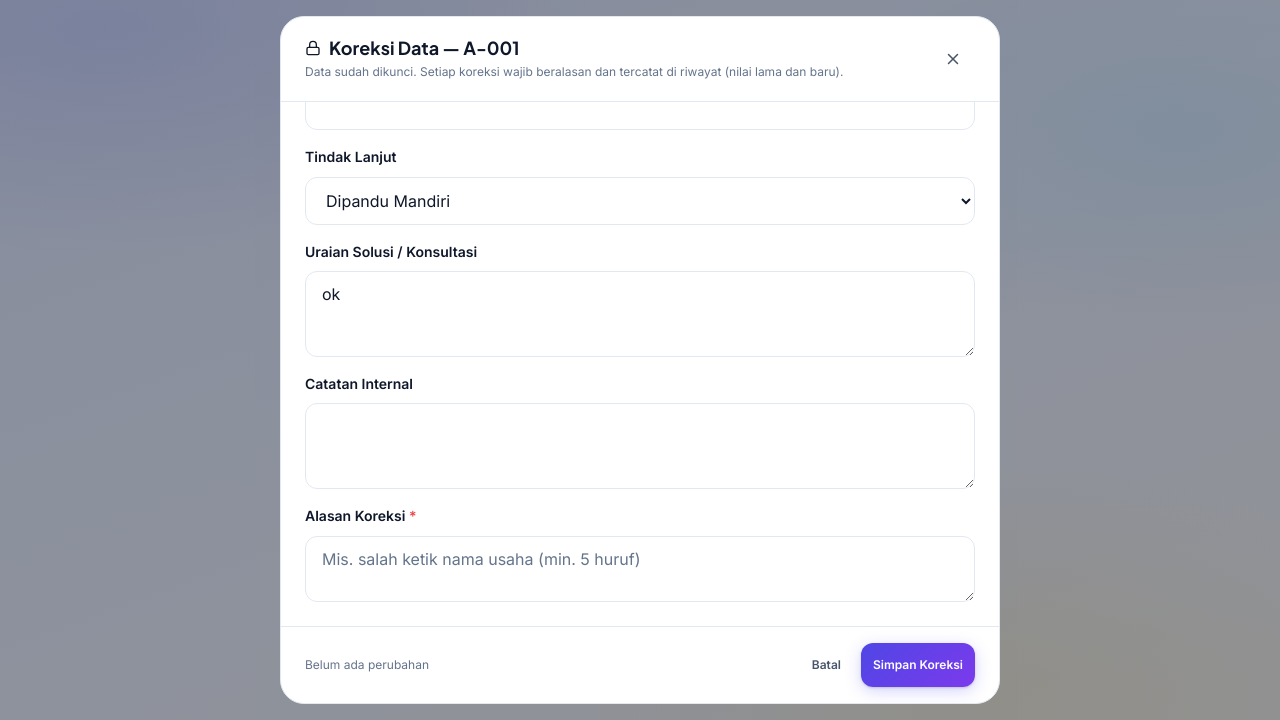
Test: KoreksiPelayananModal › tanpa perubahan ditolak; alasan kurang dari 5 huruf ditolak
(page scrolled)
Type "abc" into the text box labelled "Alasan Koreksi". click: (640, 569)
box: top-left (305, 536), bottom-right (975, 602)
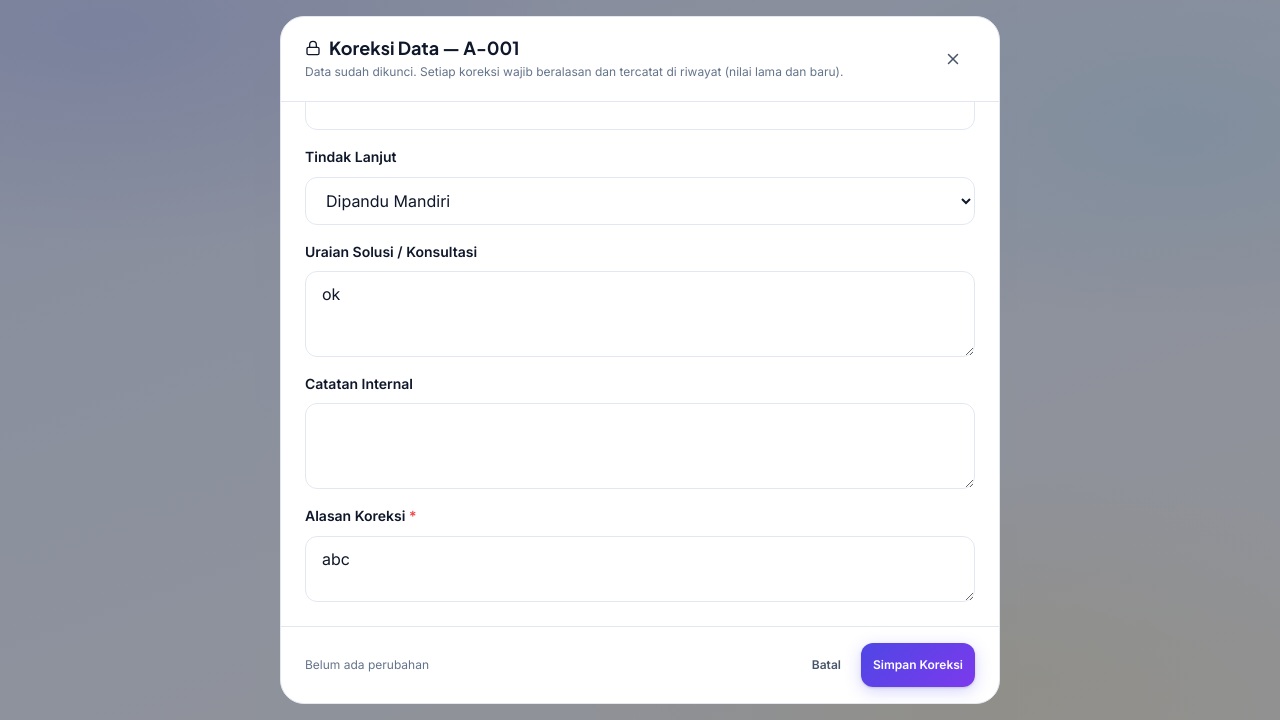
Click the button "Simpan Koreksi". click: (918, 665)
box: top-left (861, 643), bottom-right (975, 687)
(page scrolled)
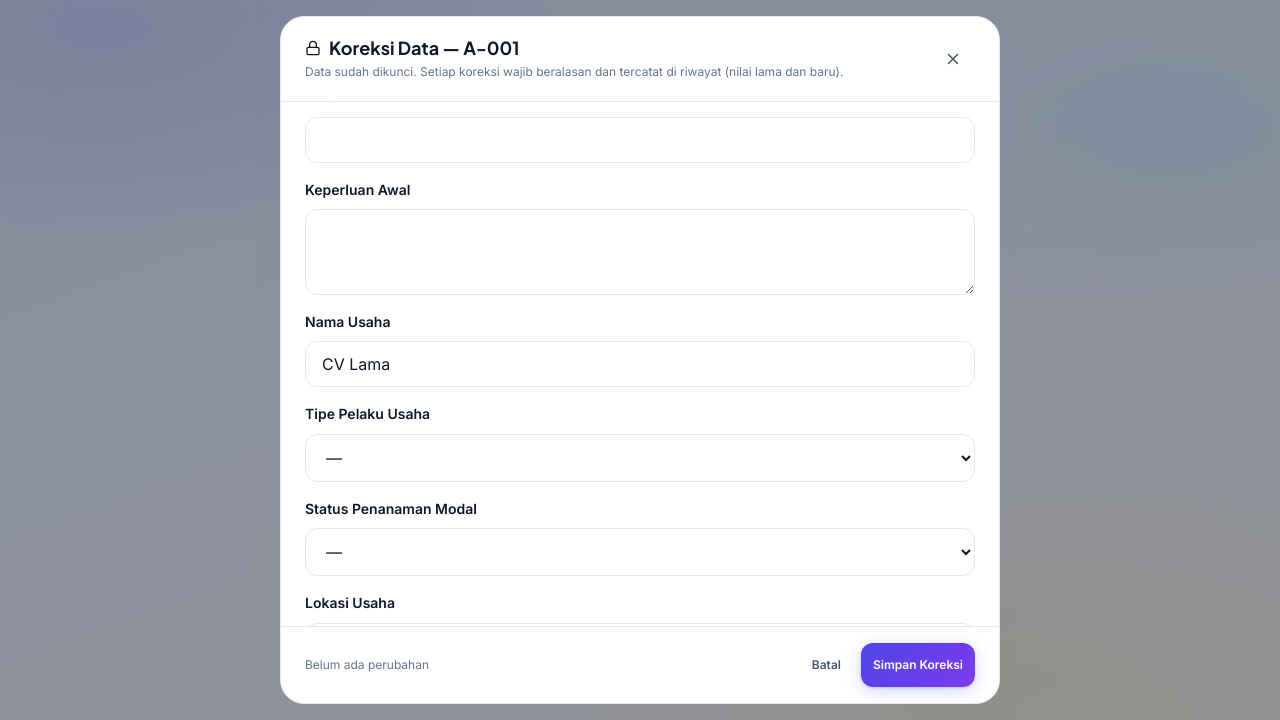
Replace the text in the field labelled "Nama Usaha" with "CV Baru". click: (640, 364)
box: top-left (305, 341), bottom-right (975, 387)
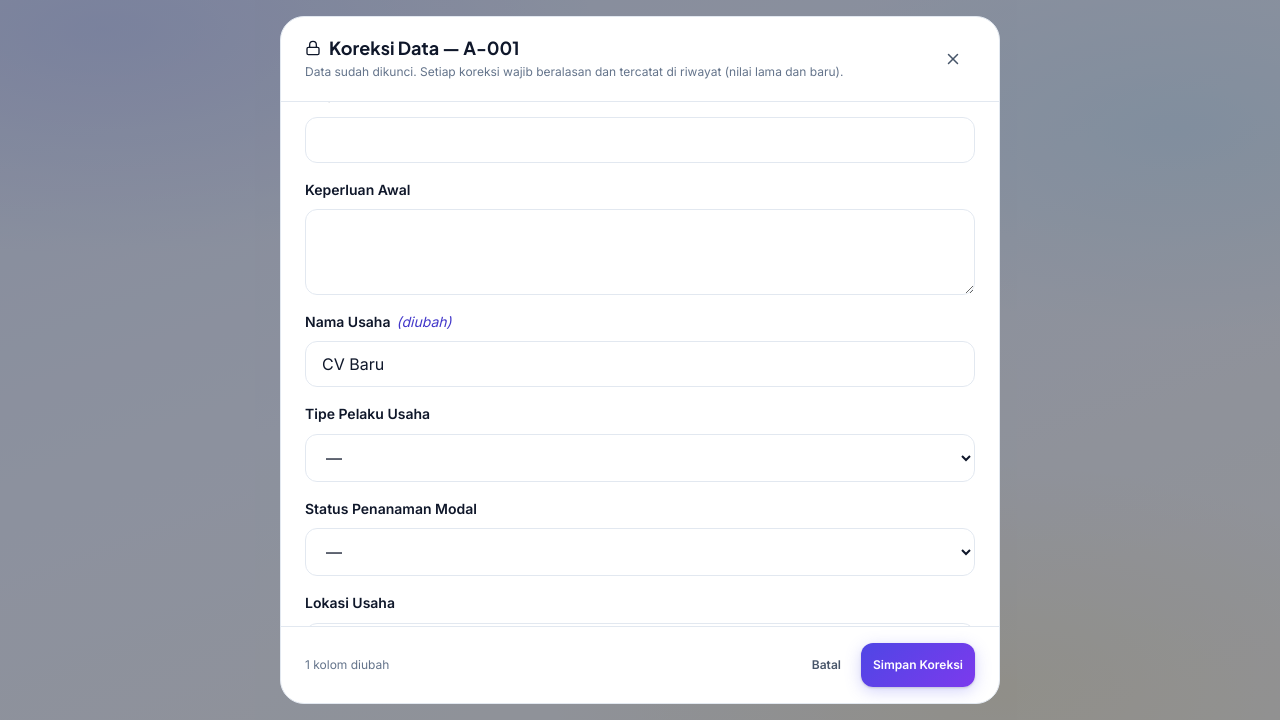
Click the button "Simpan Koreksi". click: (918, 665)
box: top-left (861, 643), bottom-right (975, 687)
(page scrolled)
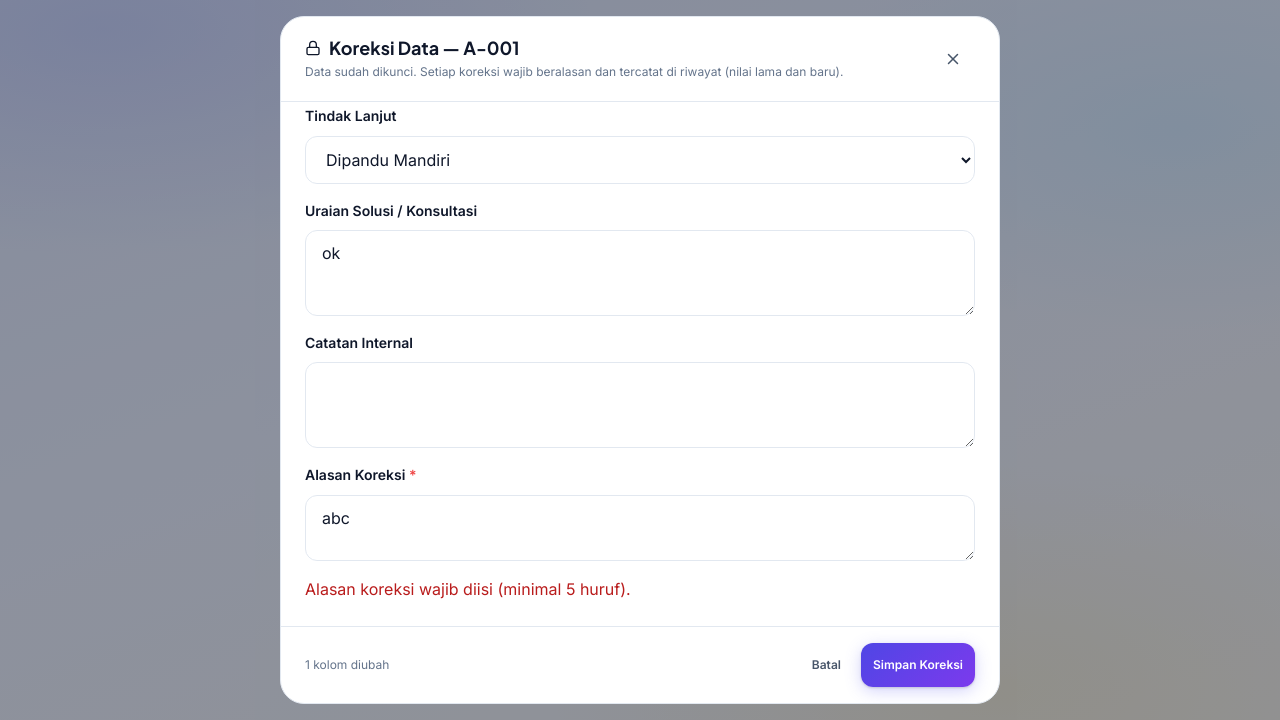
Expected: the message shows "minimal 5 huruf", top-left (305, 579), bottom-right (631, 599)
